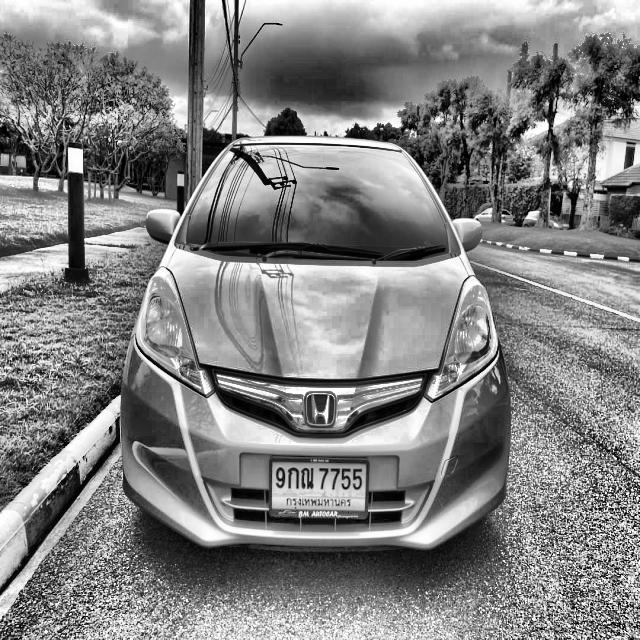license-plate: (267, 454, 370, 524)
